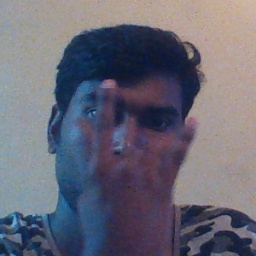V: (76, 74, 203, 252)
